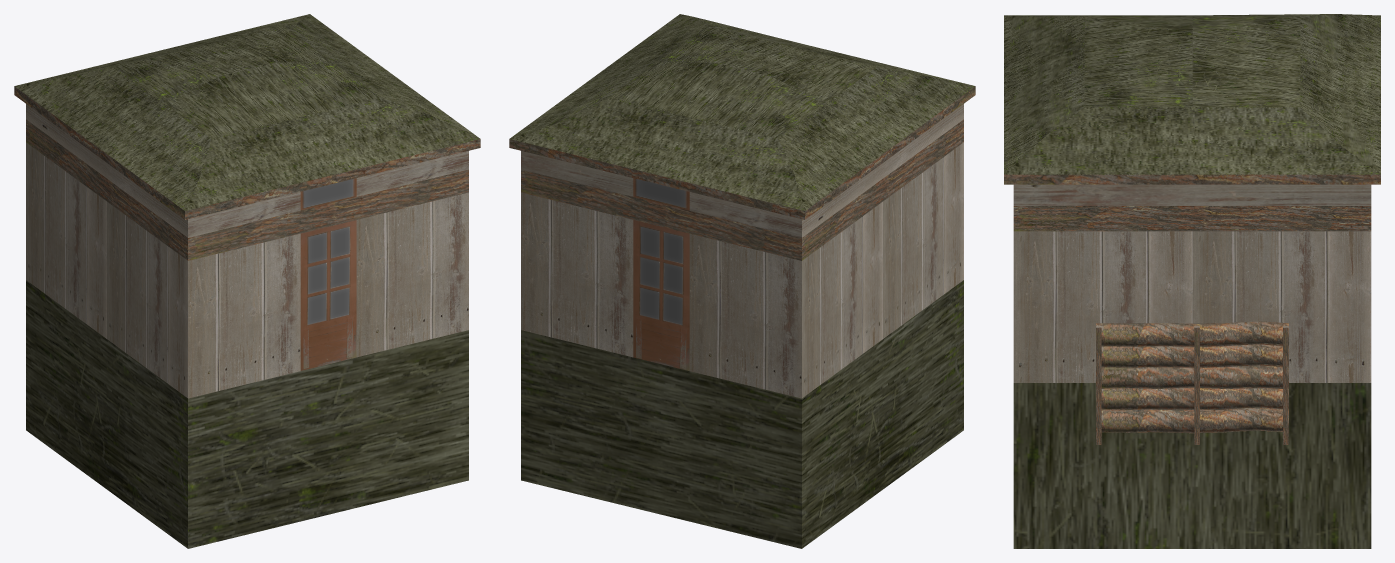
The model's file is wood_cut_house.obj.
3 views of the same model, side by side, from view 1: azimuth 30°, elevation 25°; view 2: azimuth 150°, elevation 25°; view 3: azimuth 270°, elevation 25° (orthographic). The views are drawn at different scales.
Visible parts, largest first — view 1: Cube.004; view 2: Cube.004; view 3: Cube.004.
Boxes of the visible parts, box(x1,y1,x2,y2) form: Cube.004: box(14, 14, 480, 548); Cube.004: box(509, 14, 975, 548); Cube.004: box(1004, 14, 1380, 548).
Size of the model in its own units: 4.36 by 5.2 by 4.17.
